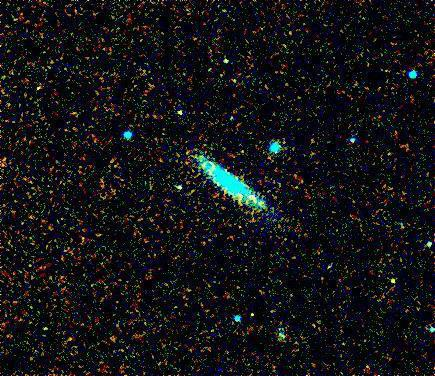star: (380, 263, 410, 293)
